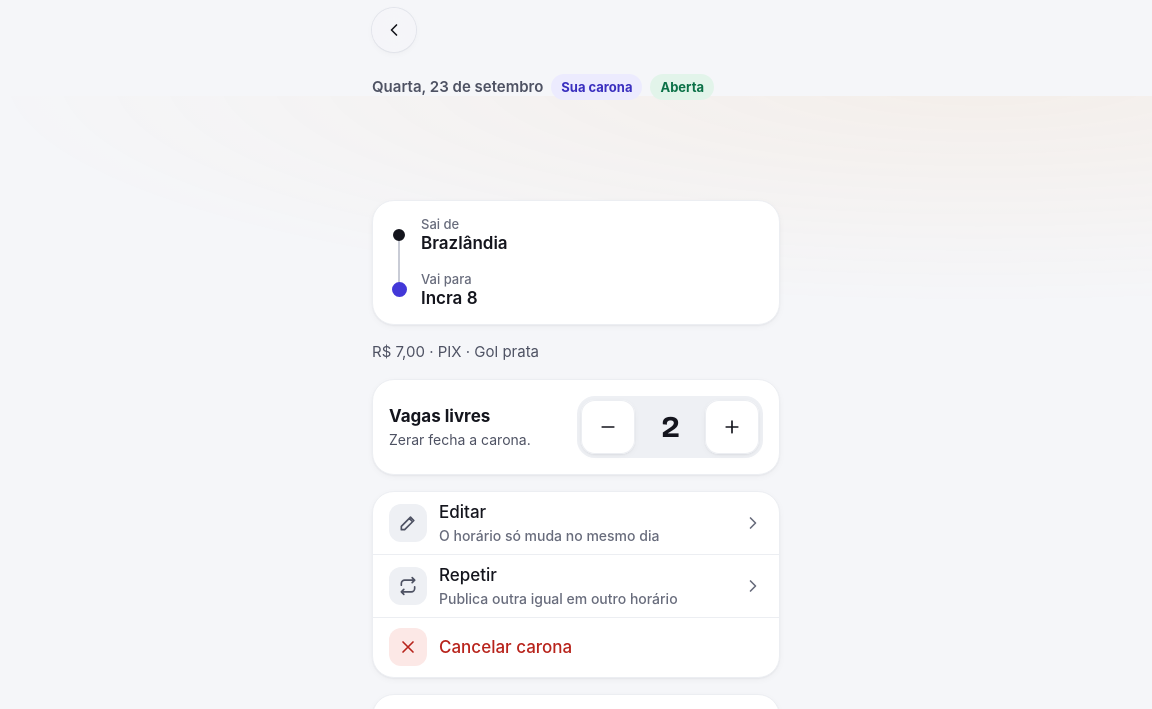
Test: RideDetail for the driver › cancelling asks first; going back cancels nothing
This screenshot has width=1152, height=709.
Expected: the link named "Voltar ao mural" is shown, [372,8,416,52]
Click the button "Cancelar carona": (408, 647) [373,616,779,676]
(page scrolled)
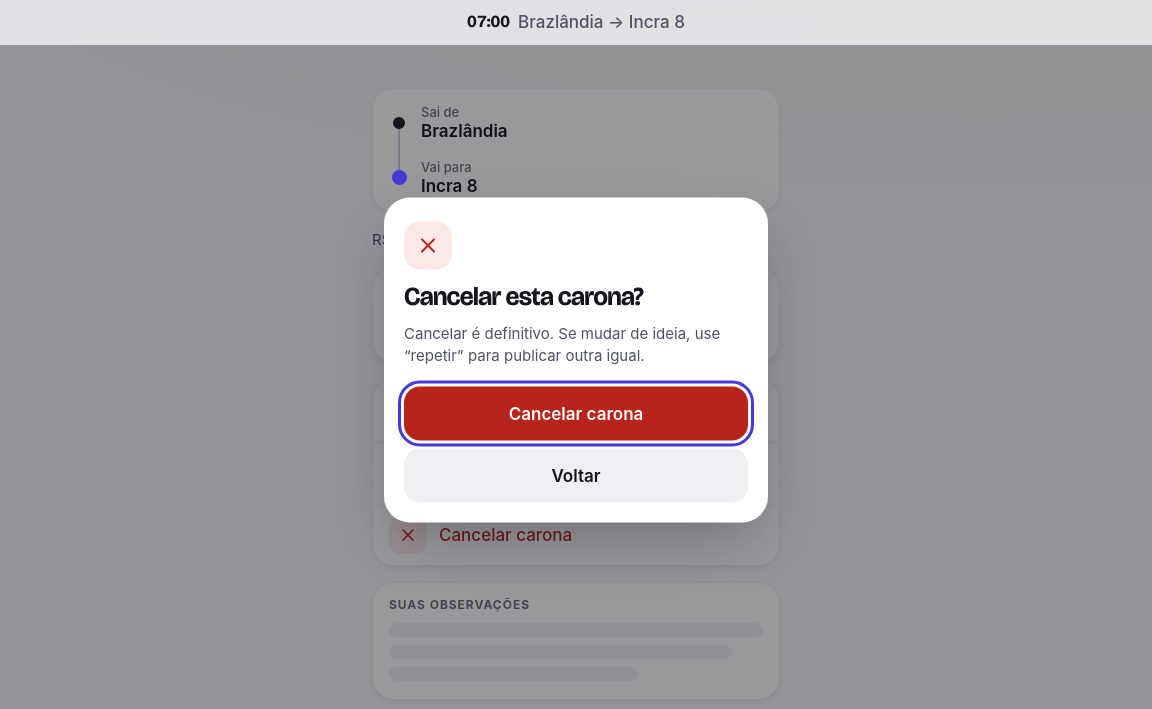
Now the text "Cancelar é definitivo" is shown, box [404,324,720,364]
Click the button "Voltar": (576, 476) [404,448,748,502]
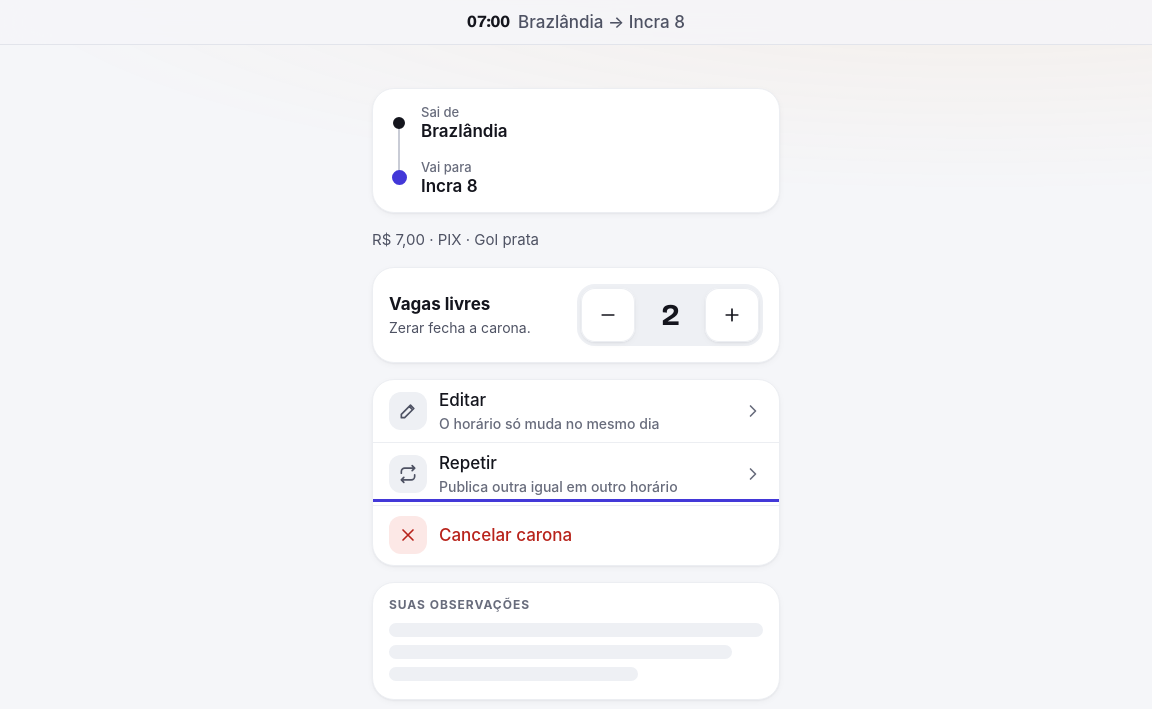
Now the dialog is gone
